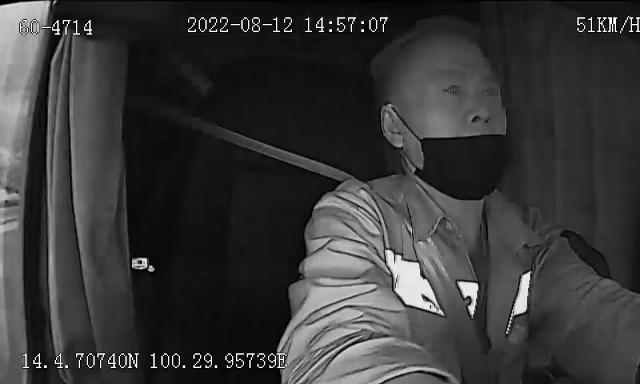SafeDriving: (434, 72, 468, 103), (473, 75, 506, 104)
Seatbelt: (227, 130, 475, 338)
